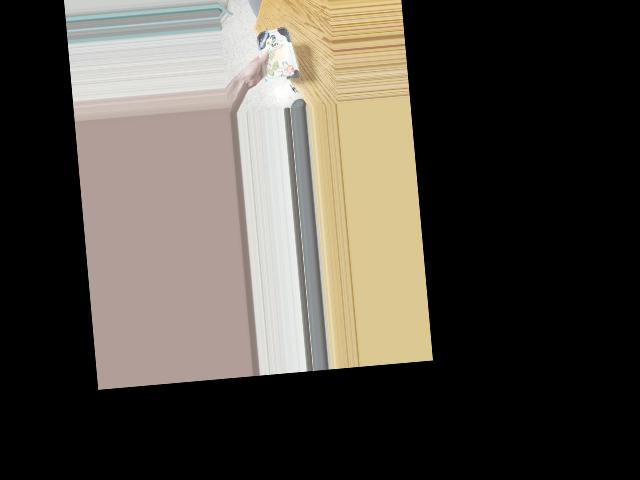cheese: (249, 27, 300, 83)
